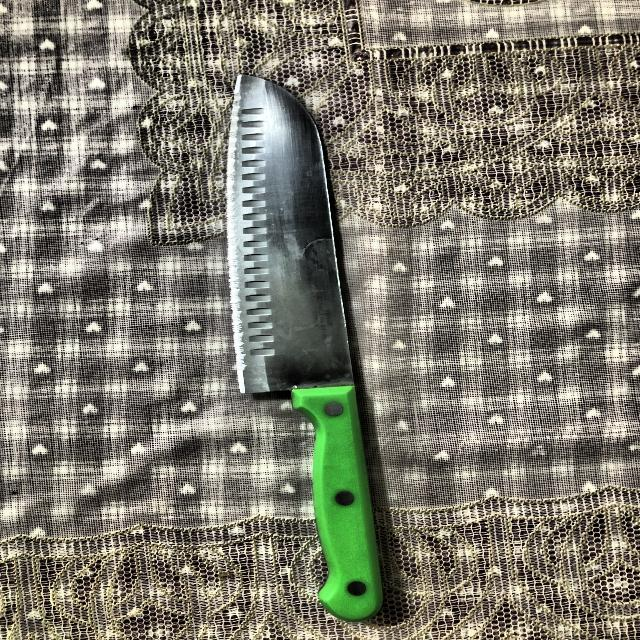knife: (226, 76, 384, 623)
